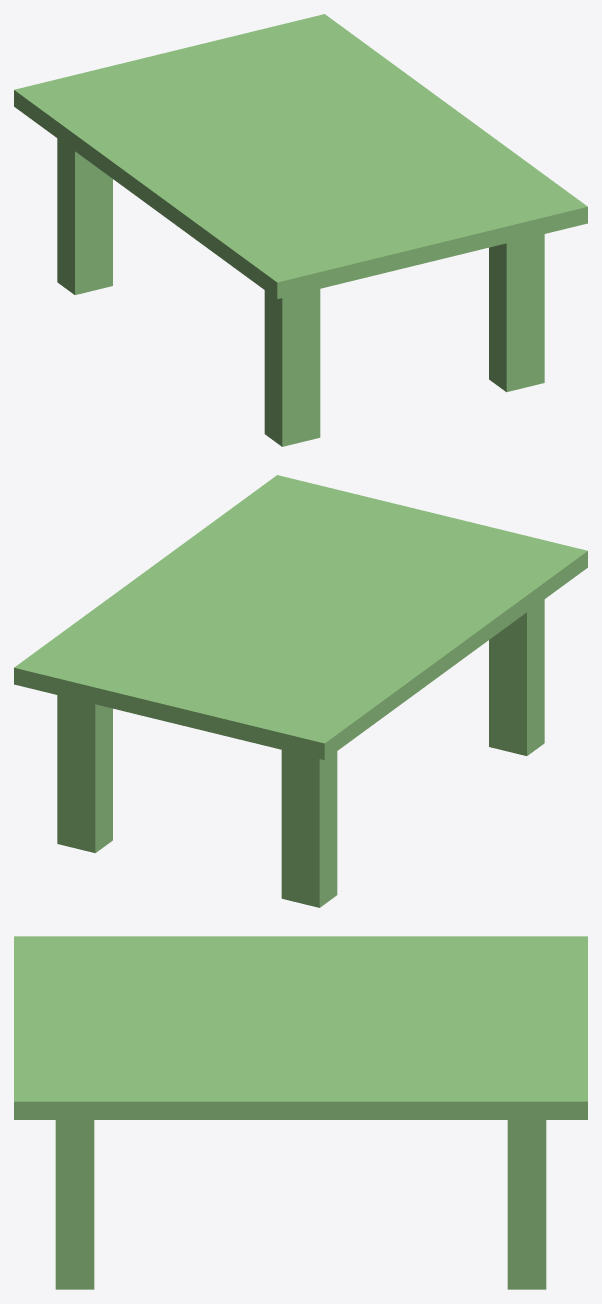
The model's file is stol.fbx.
3 views of the same model, one above another, from view 1: azimuth 30°, elevation 25°; view 2: azimuth 150°, elevation 25°; view 3: azimuth 270°, elevation 25° (orthographic). The views are drawn at different scales.
Parts seen in each view (by area): view 1: stol; view 2: stol; view 3: stol.
Boxes of the visible parts, bbox=[...] form: stol: bbox=[14, 14, 587, 446]; stol: bbox=[14, 475, 587, 907]; stol: bbox=[14, 936, 587, 1289].
Bounding box in the file's own units: 96.99 × 142 × 55.
